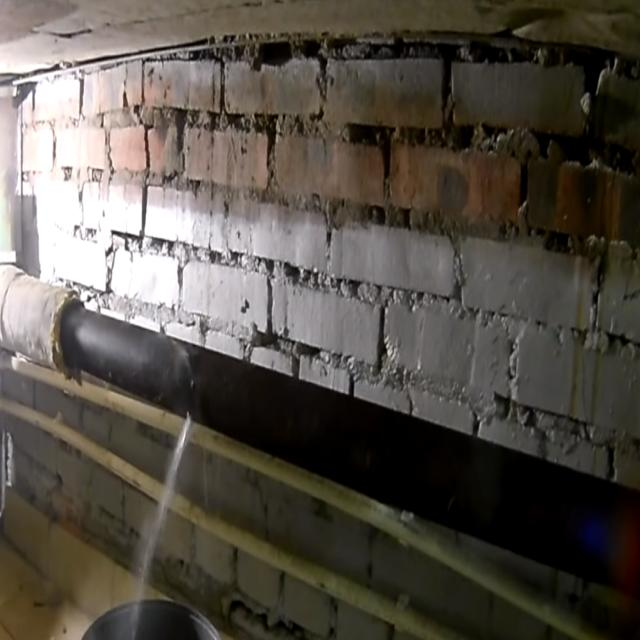leak: (118, 413, 195, 640)
